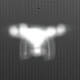plane: (6, 21, 75, 62)
